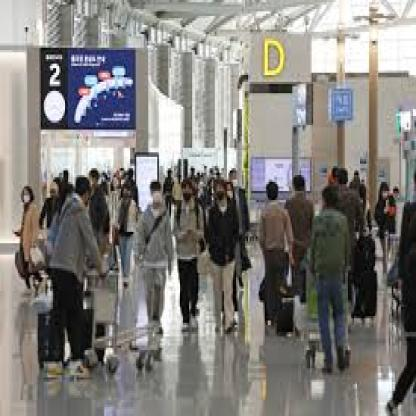airport-trolley: (92, 230, 172, 379)
